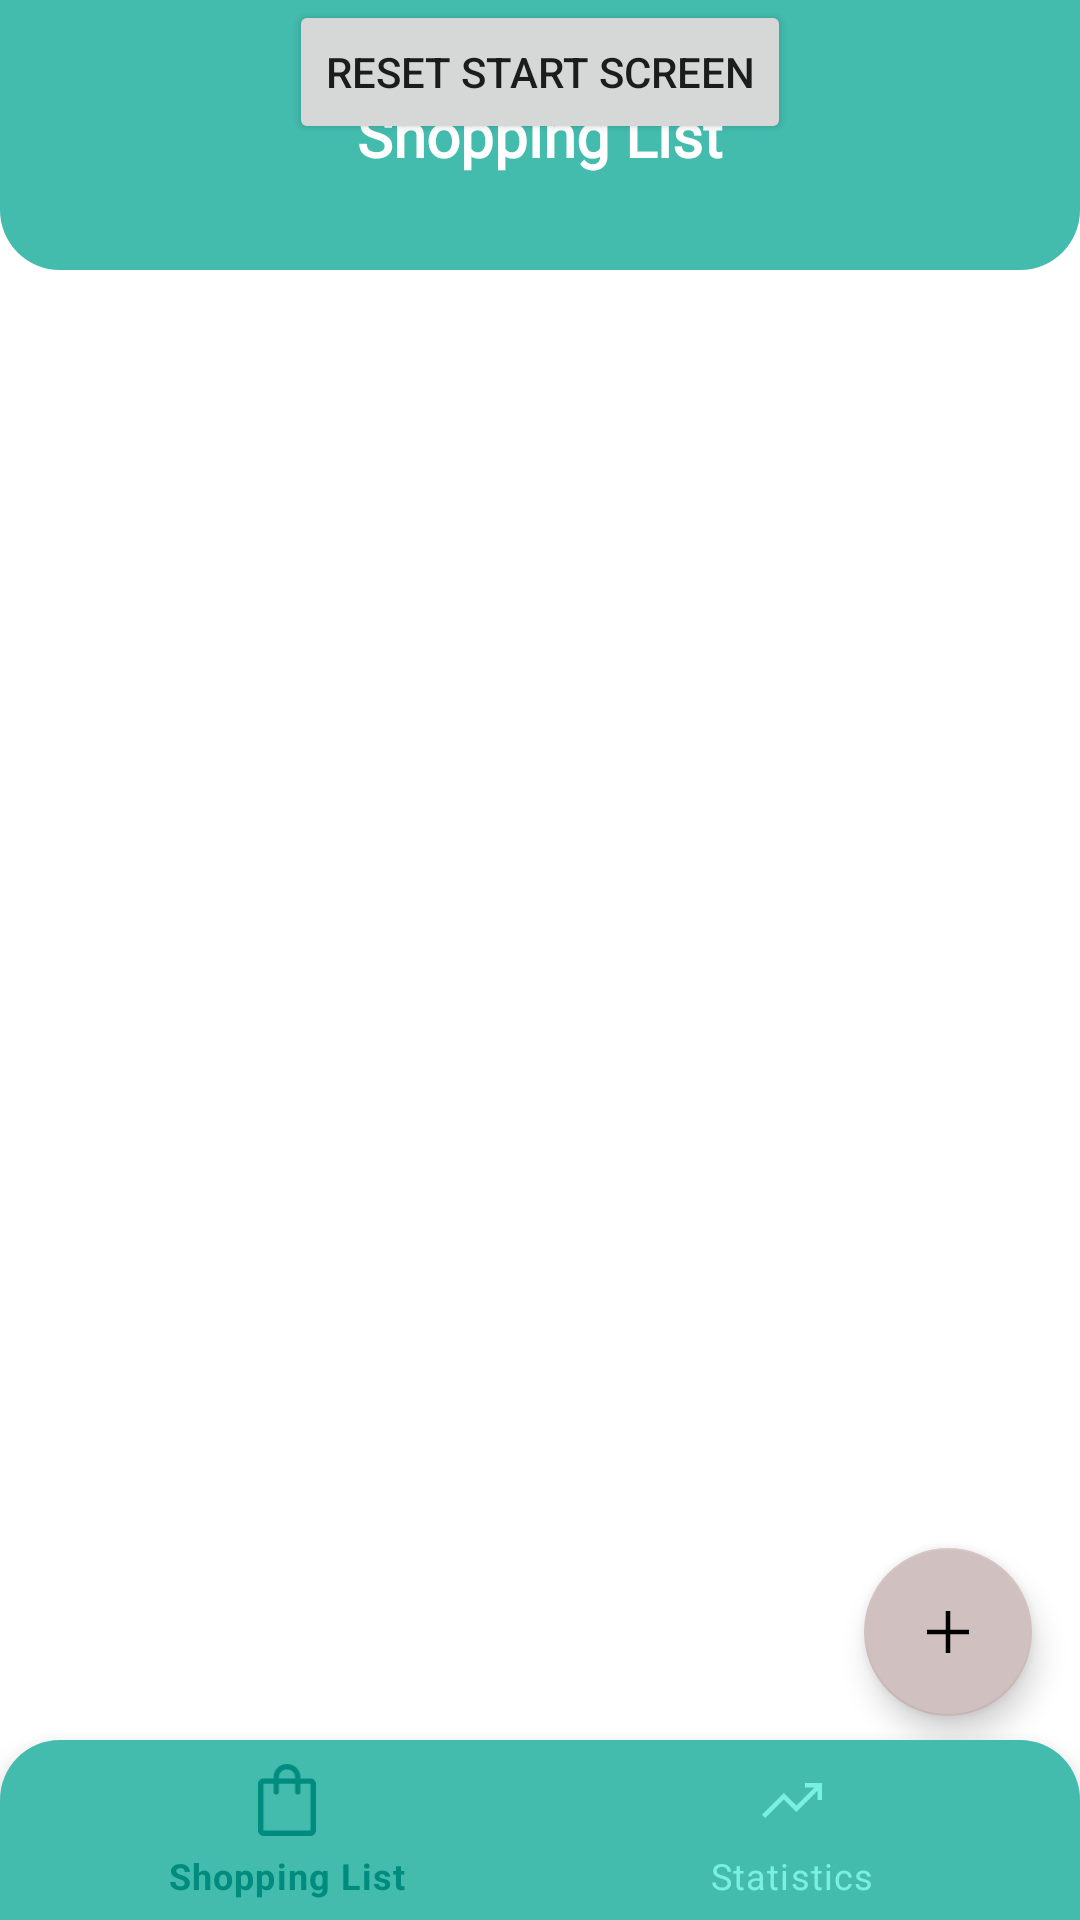

Named icons in this screenshot (1080x1920) and their centers, point (x, y):
add: point (948, 1632)
